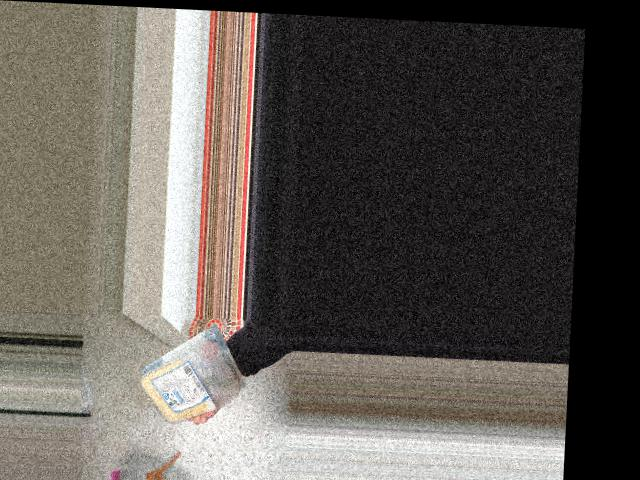cheese: (140, 336, 237, 425)
